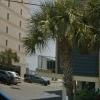Car: (24, 67, 53, 90)
